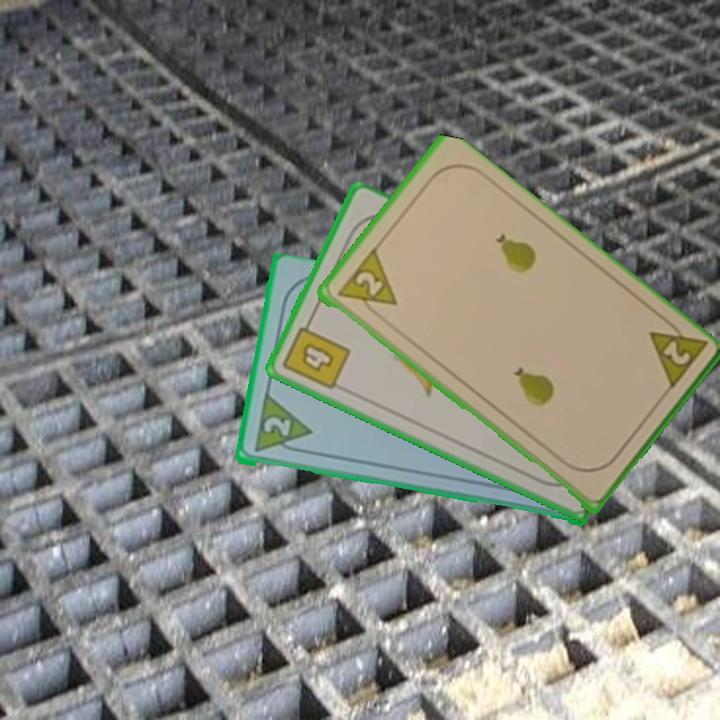2p: (644, 313, 709, 395), (333, 247, 400, 322), (259, 413, 294, 440)
4b: (279, 314, 353, 393)
